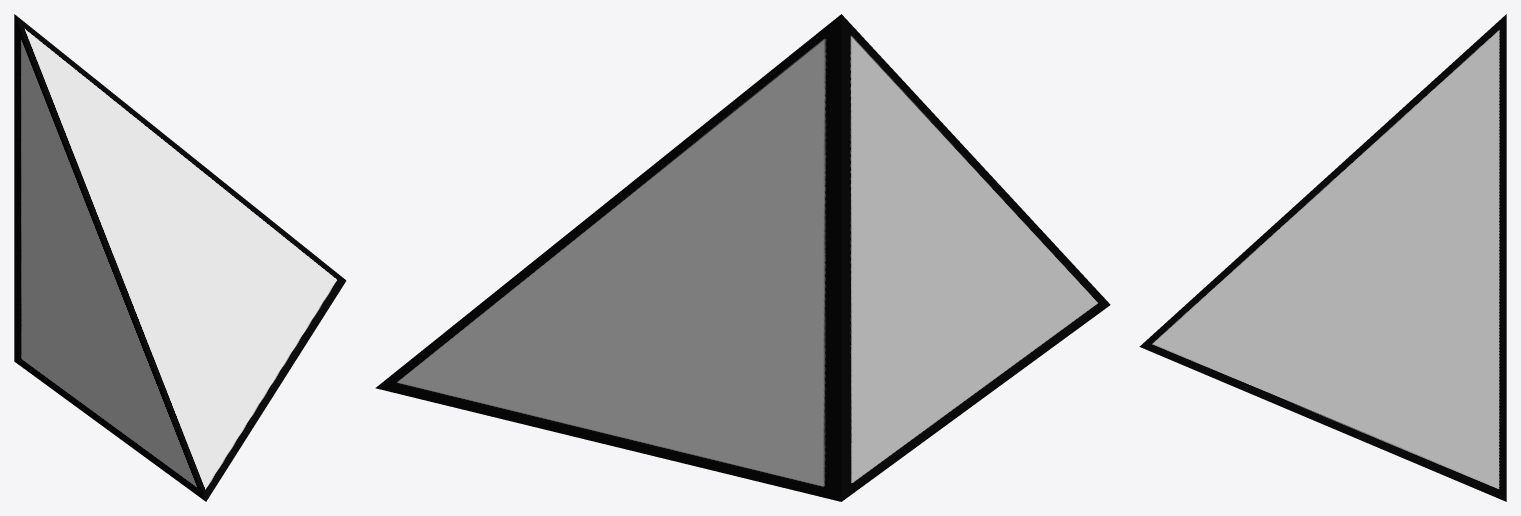
Rendered from tetra.glb.
The picture shows the model from 3 angles, left to right: view 1: azimuth 30°, elevation 25°; view 2: azimuth 150°, elevation 25°; view 3: azimuth 270°, elevation 25°; orthographic projection. The views are drawn at different scales.
Parts seen in each view (by area): view 1: Cube; view 2: Cube; view 3: Cube.
Boxes of the visible parts, x1=… form: Cube: x1=14, y1=14, x2=346, y2=501; Cube: x1=375, y1=14, x2=1110, y2=501; Cube: x1=1139, y1=14, x2=1506, y2=501.
Bounding box in the file's own units: 1 × 1 × 1.
1 material, 1 textured.
